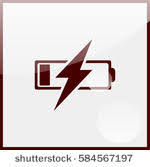charging sign: (26, 24, 124, 121)
